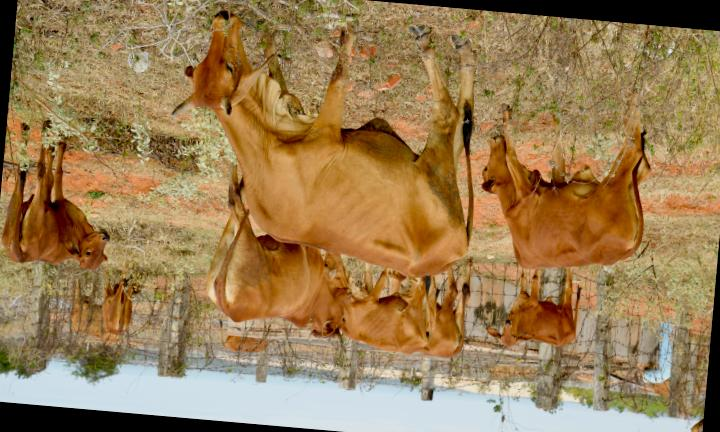Brahman: (172, 12, 476, 277), (482, 98, 651, 269), (206, 166, 350, 337), (2, 142, 110, 269), (326, 252, 436, 354), (486, 267, 581, 346), (417, 261, 471, 357)
